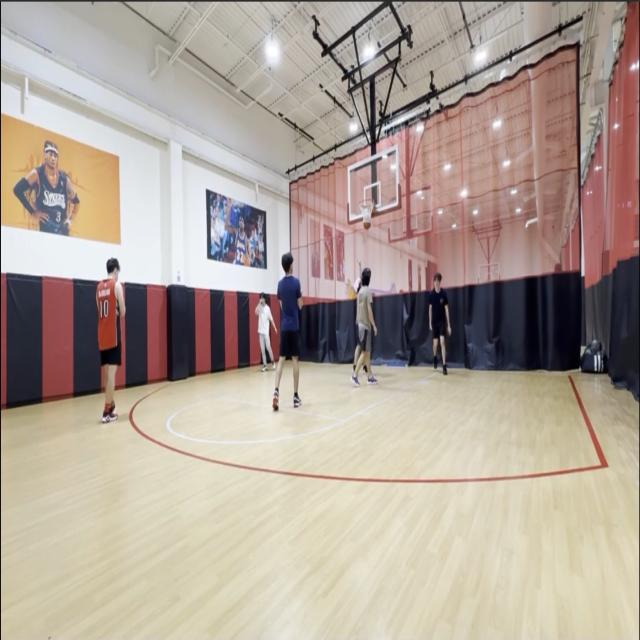Basketball: (364, 222, 371, 230)
Basketball Rim: (358, 198, 374, 224)
